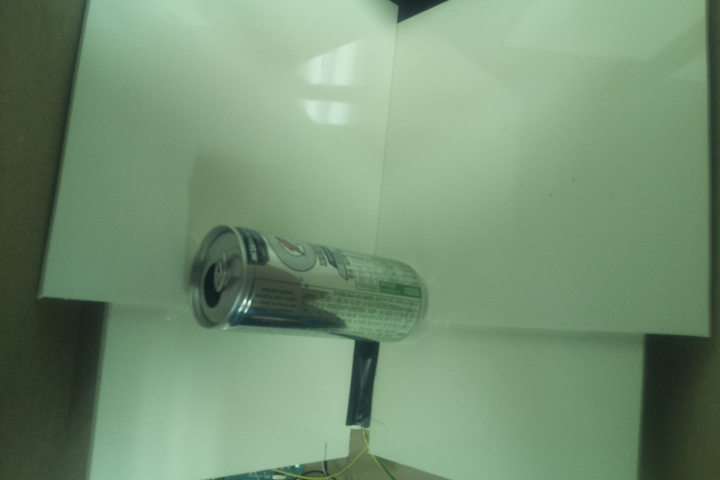can: (186, 225, 430, 344)
